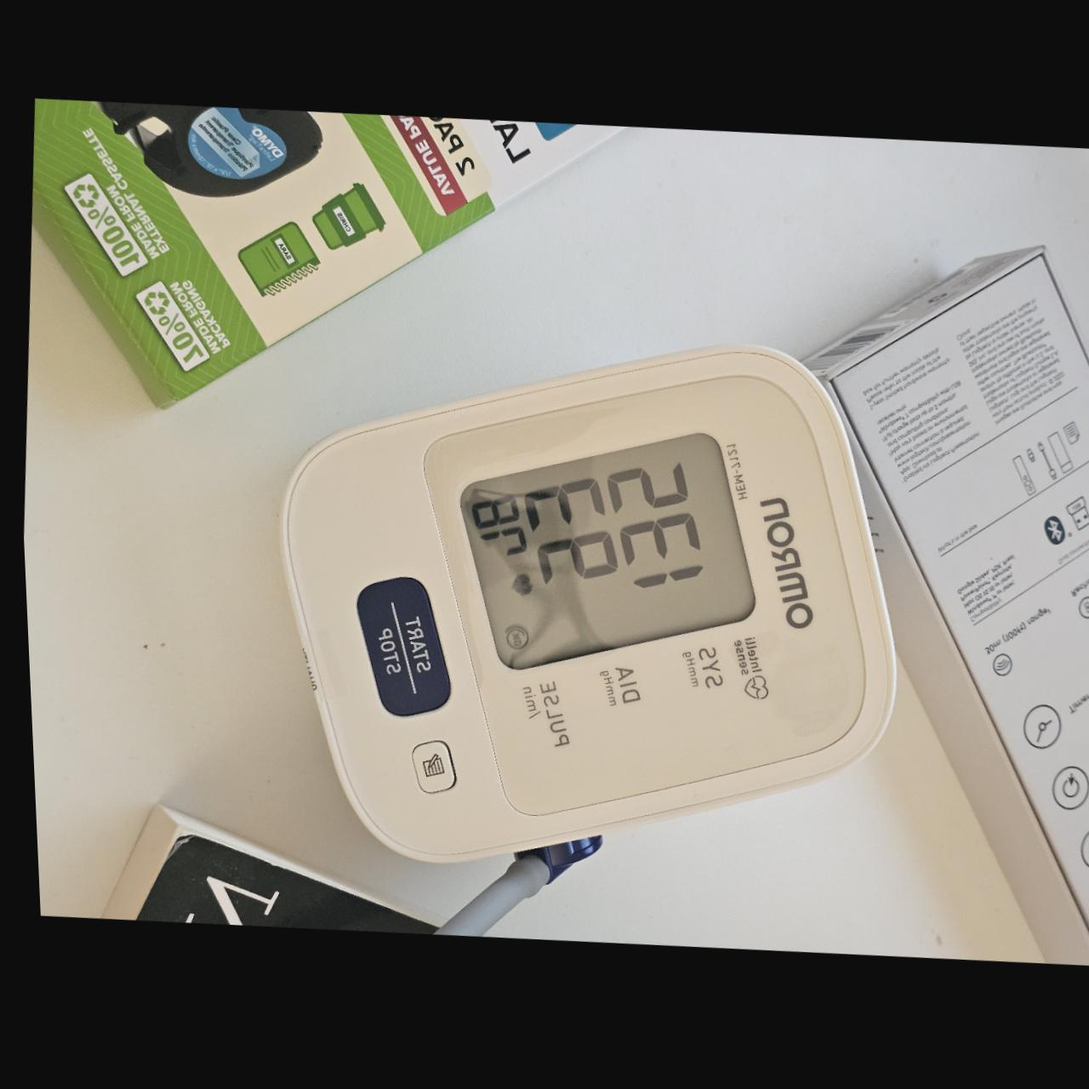blood pressure monitor: (245, 297, 934, 909)
